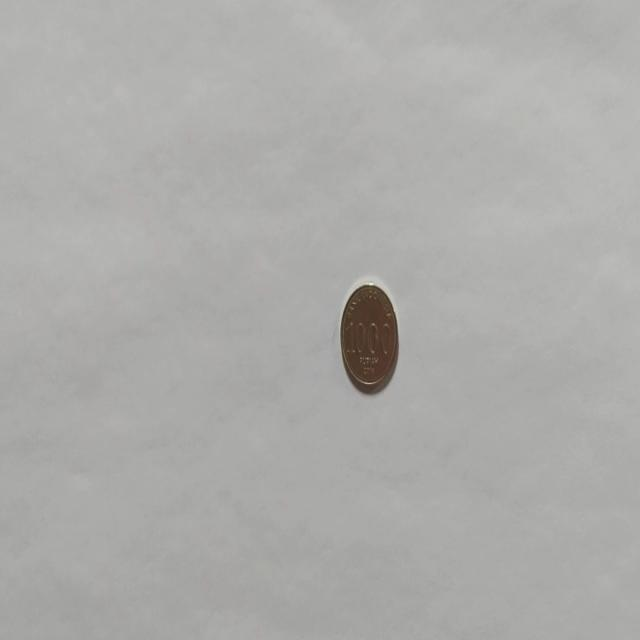seribu rupiah koin: (338, 280, 399, 394)
